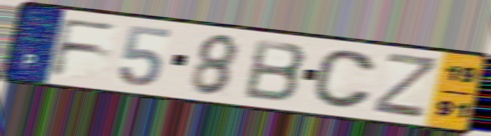5: (116, 23, 173, 89)
8: (189, 32, 243, 98)
B: (240, 37, 310, 105)
C: (310, 48, 379, 112)
F: (46, 16, 121, 78)
Z: (369, 51, 441, 122)
